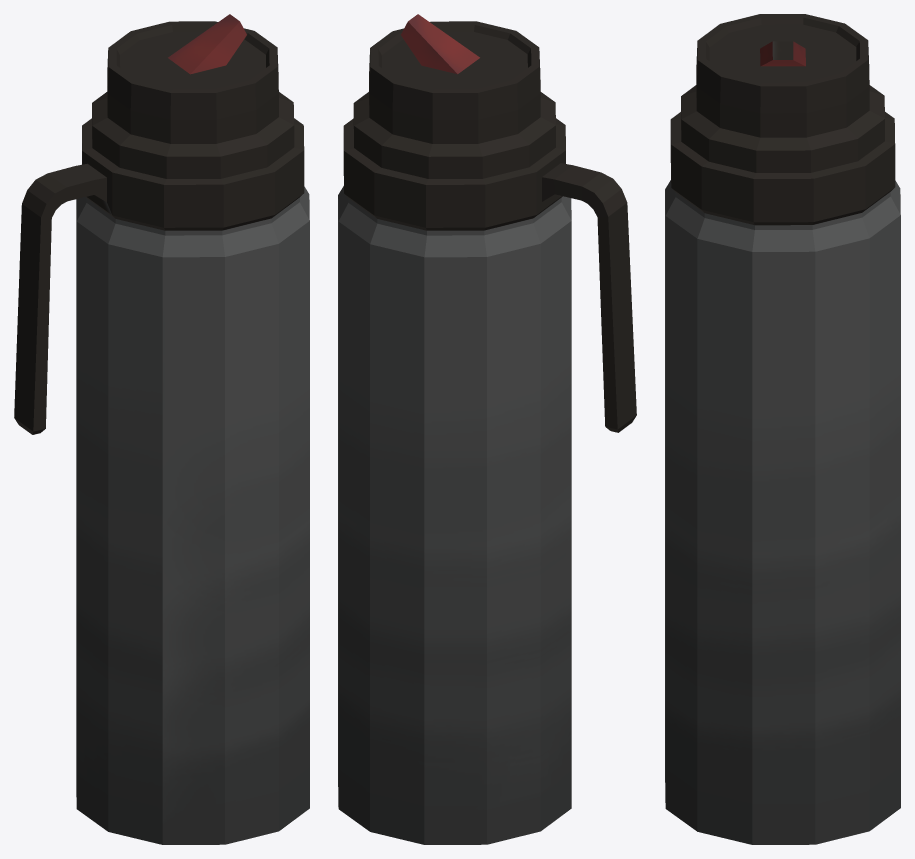
The model's file is Termo.fbx.
3 renders of one model, left to right at view 1: azimuth 30°, elevation 25°; view 2: azimuth 150°, elevation 25°; view 3: azimuth 270°, elevation 25°, orthographic.
Visible parts, largest first — view 1: Cylinder; view 2: Cylinder; view 3: Cylinder.
Part boxes in pixels (x1,y1,x2,y2): Cylinder: (14,14,309,844); Cylinder: (338,14,636,844); Cylinder: (665,14,900,844).
Size of the model in its own units: 118 by 317 by 87.42.
